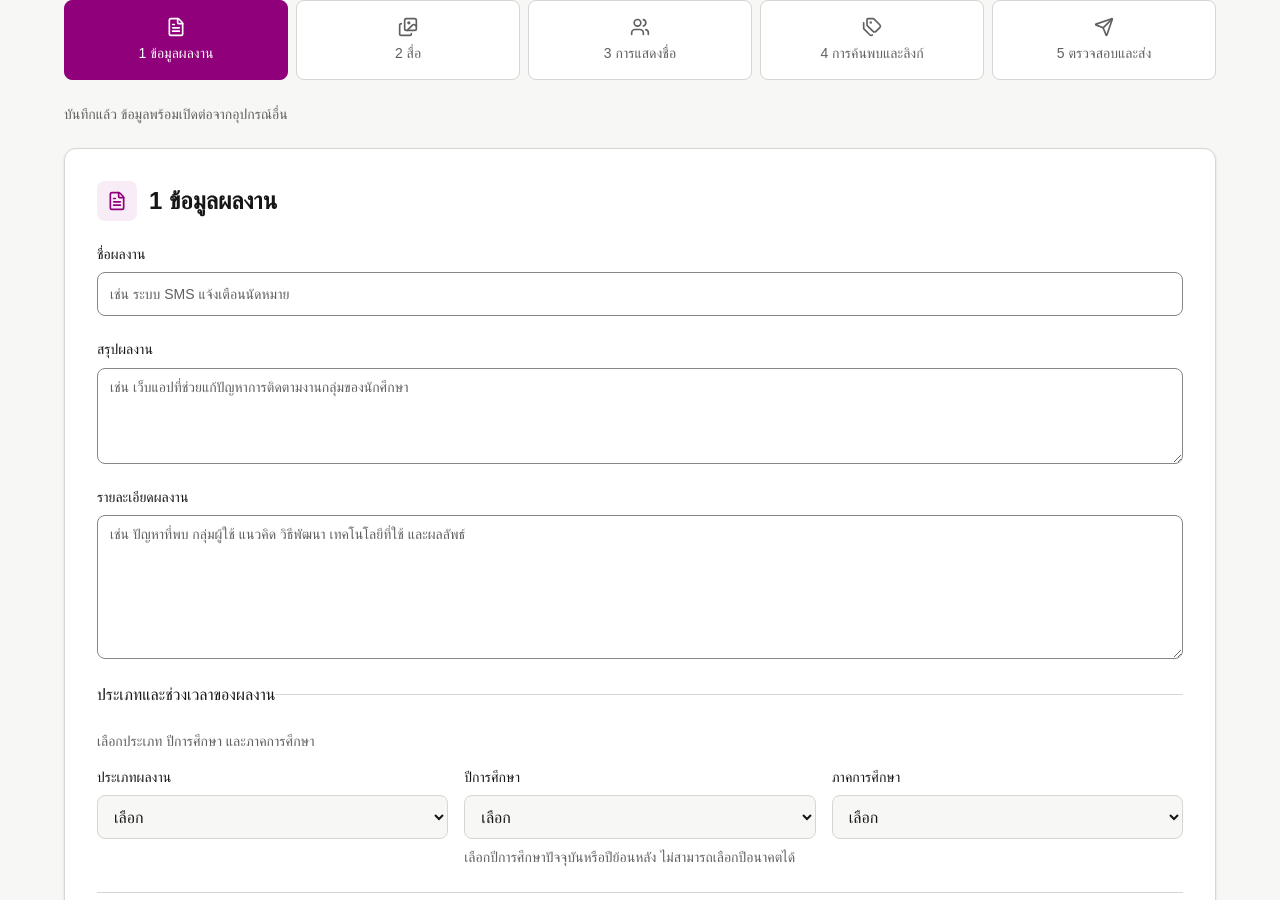
Test: five-step Work authoring › stays on the current step when saving on Next fails
Type "ผลงานใหม่" into the field labelled "ชื่อผลงาน". click: (640, 294)
box: [97,272,1183,316]
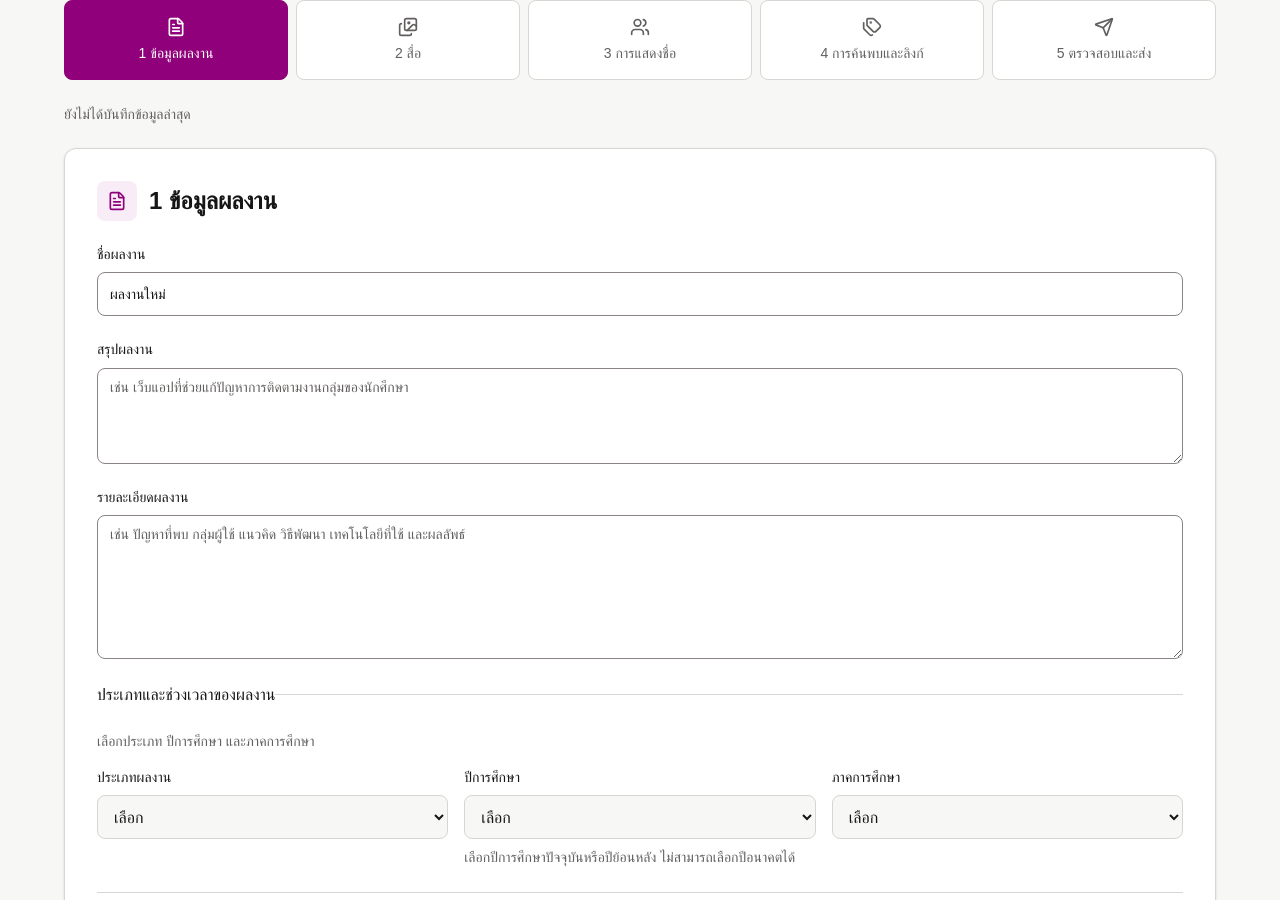
Type "สรุปผลงาน" into the text box labelled "สรุปผลงาน". click: (640, 416)
box: [97,368,1183,464]
Replace the text in the text box labelled "รายละเอียดผลงาน" with "รายละเอียดผลงาน". click: (640, 587)
box: [97,515,1183,659]
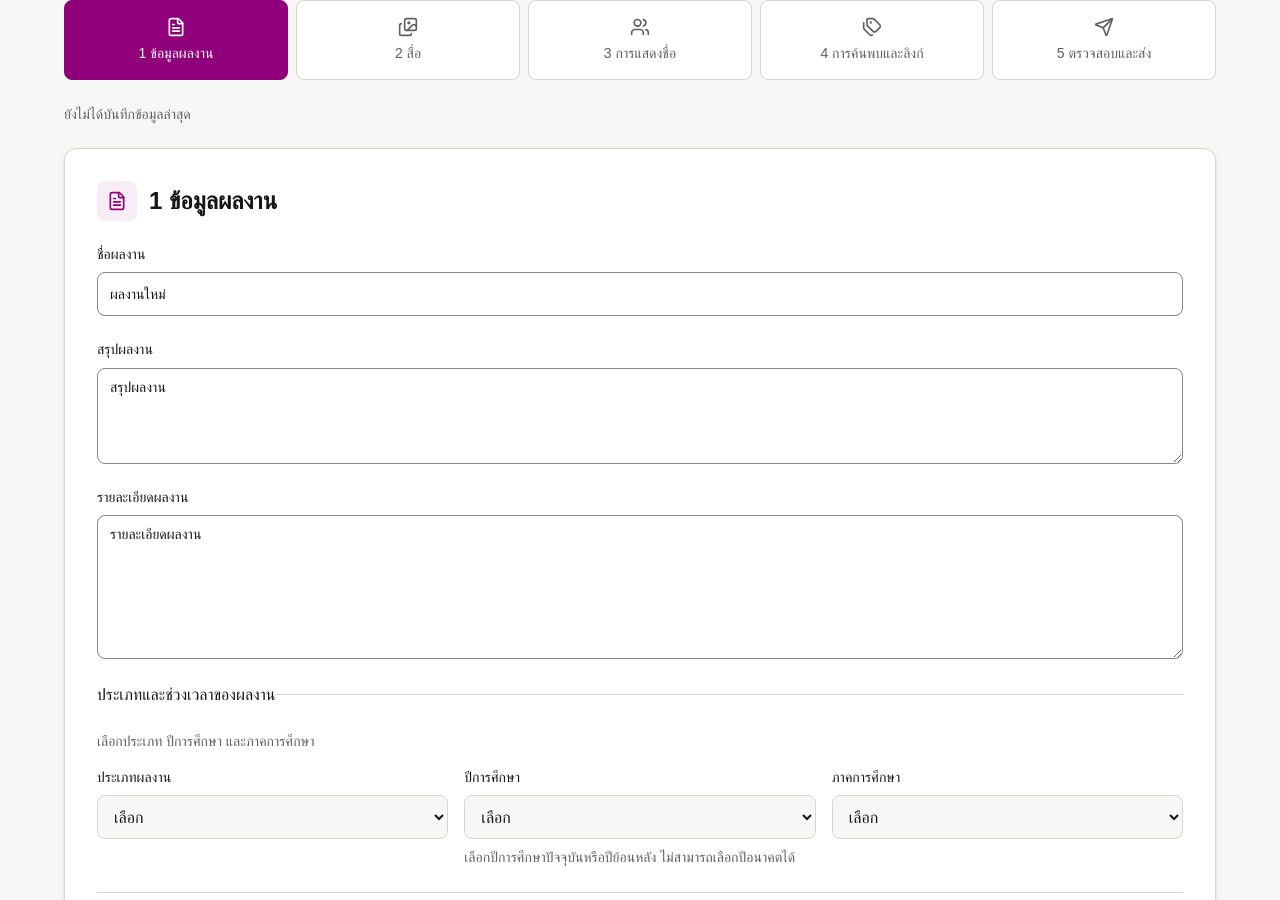
Select "ผลงานรายวิชา" in the dropdown labelled "ประเภทผลงาน". click: (273, 817)
box: [97,795,448,839]
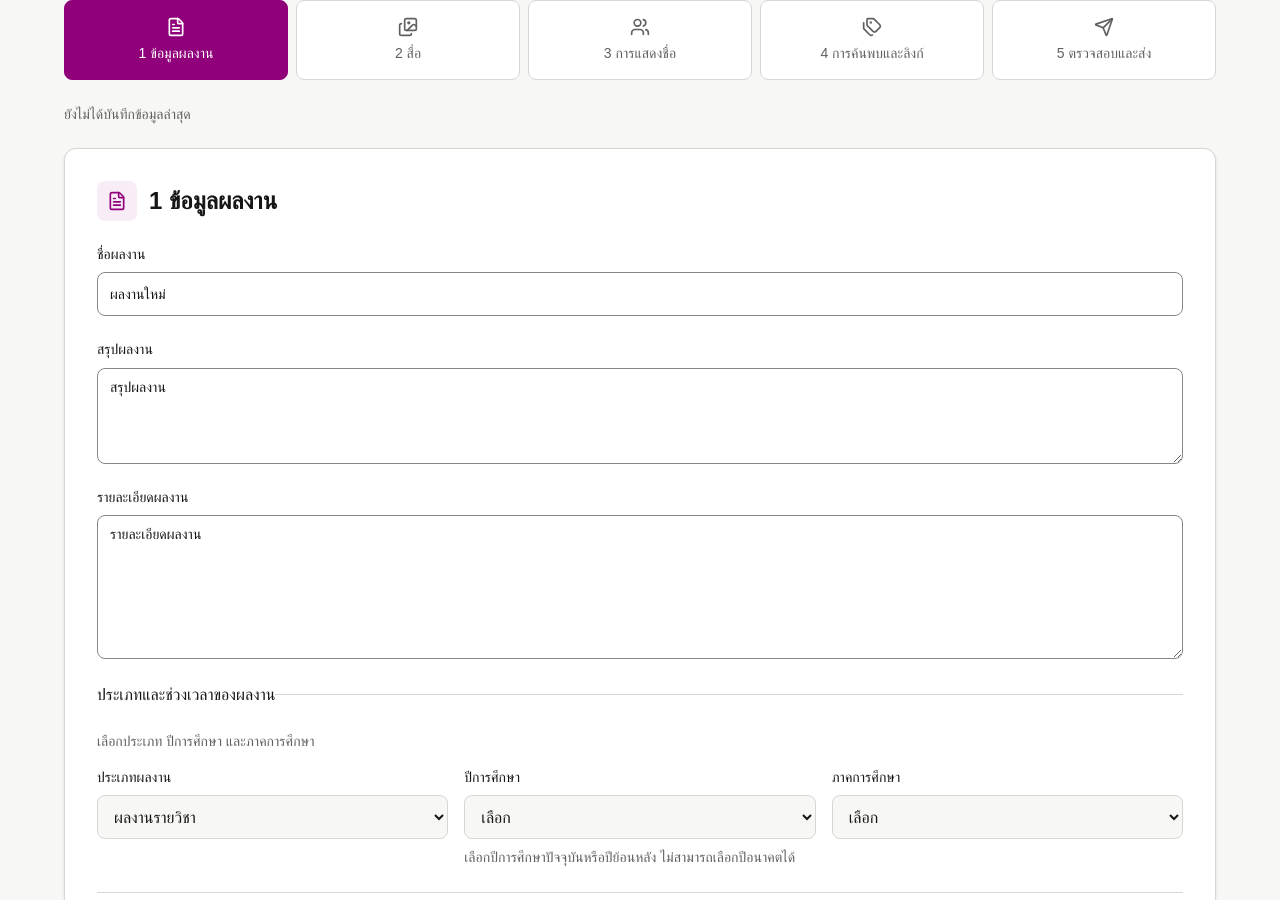
Select "2569" in the dropdown labelled "ปีการศึกษา". click: (640, 817)
box: [464,795,816,839]
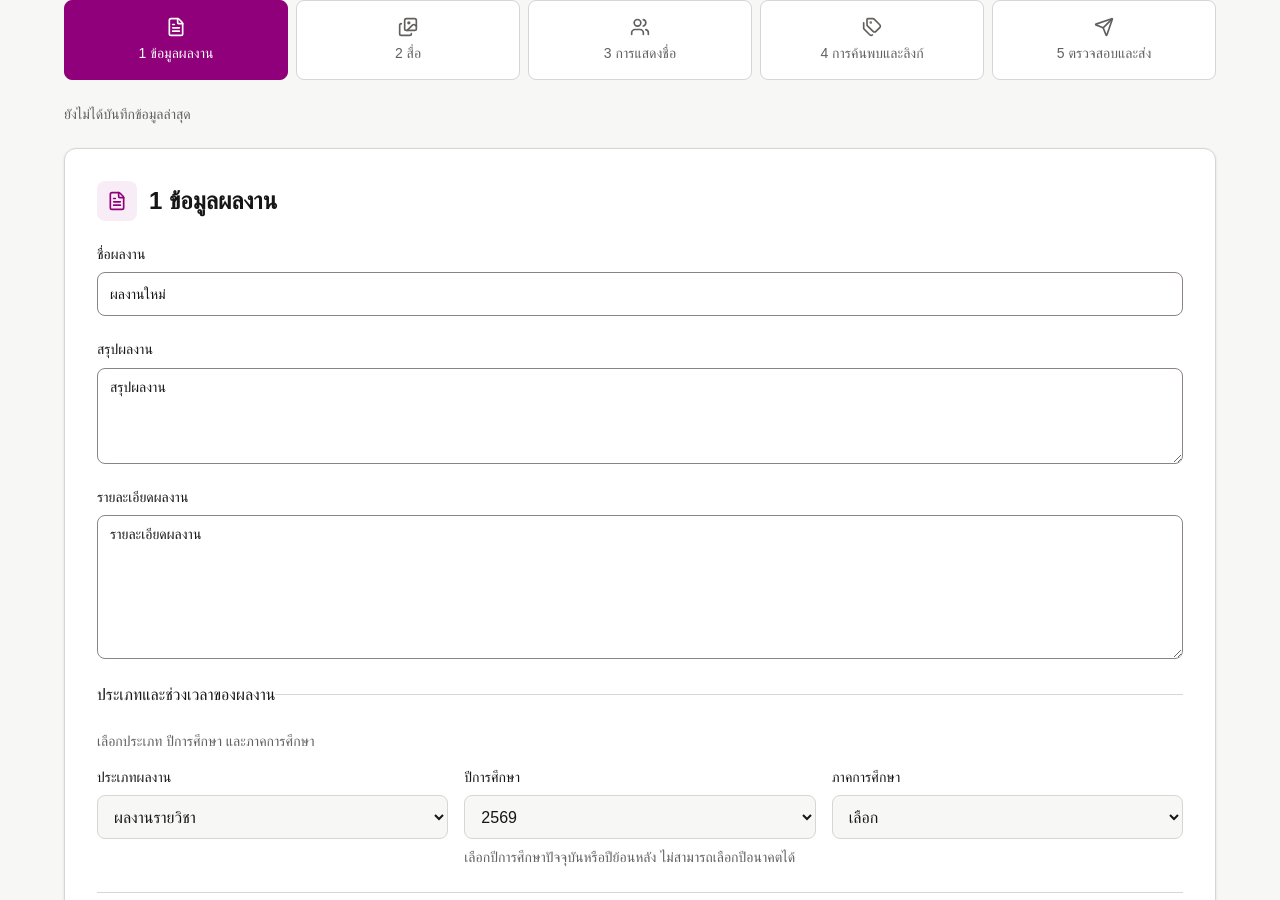
Select "1" in the dropdown labelled "ภาคการศึกษา". click: (1007, 817)
box: [832,795,1183,839]
(page scrolled)
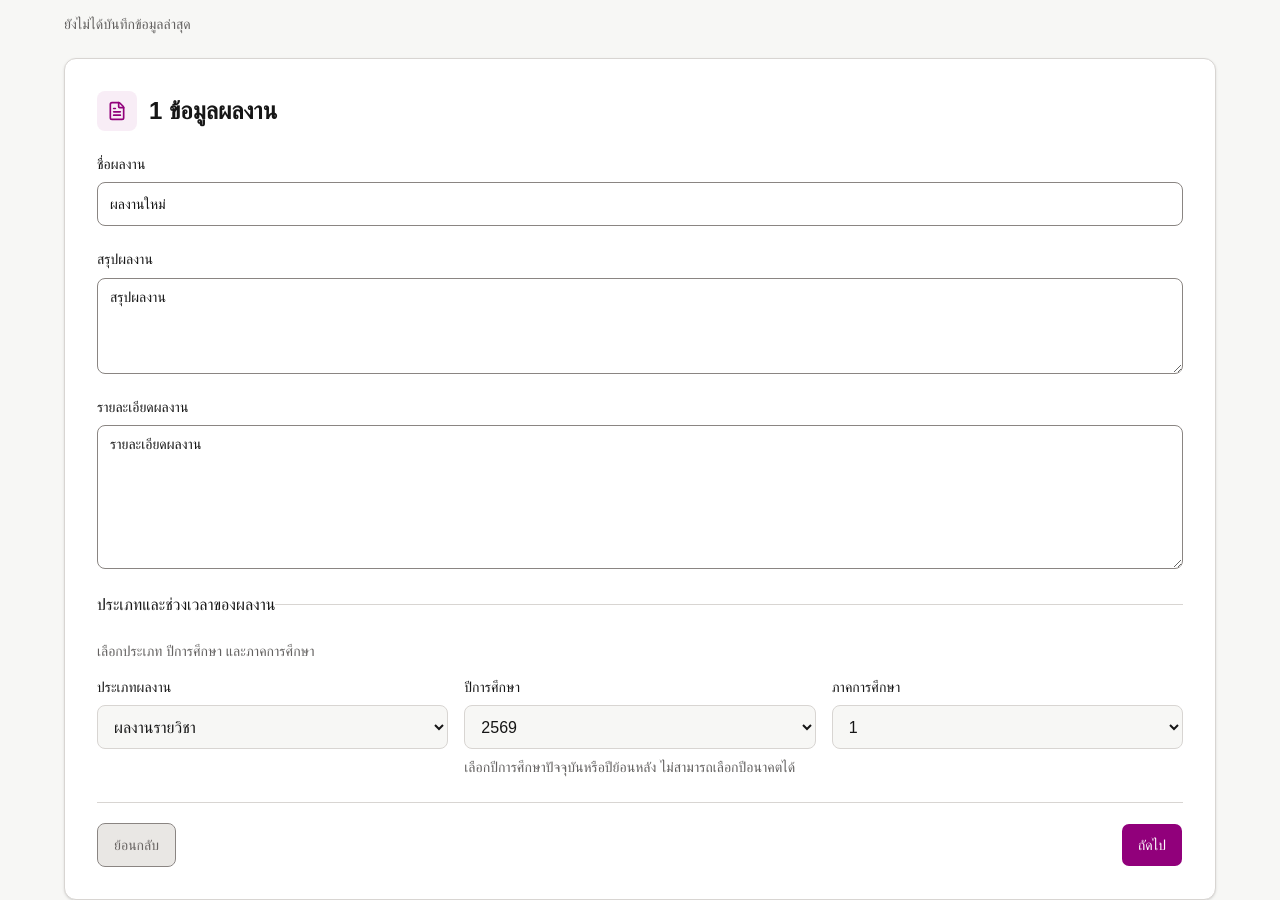
Click the button "ถัดไป". click: (1152, 845)
box: [1121,823,1183,867]
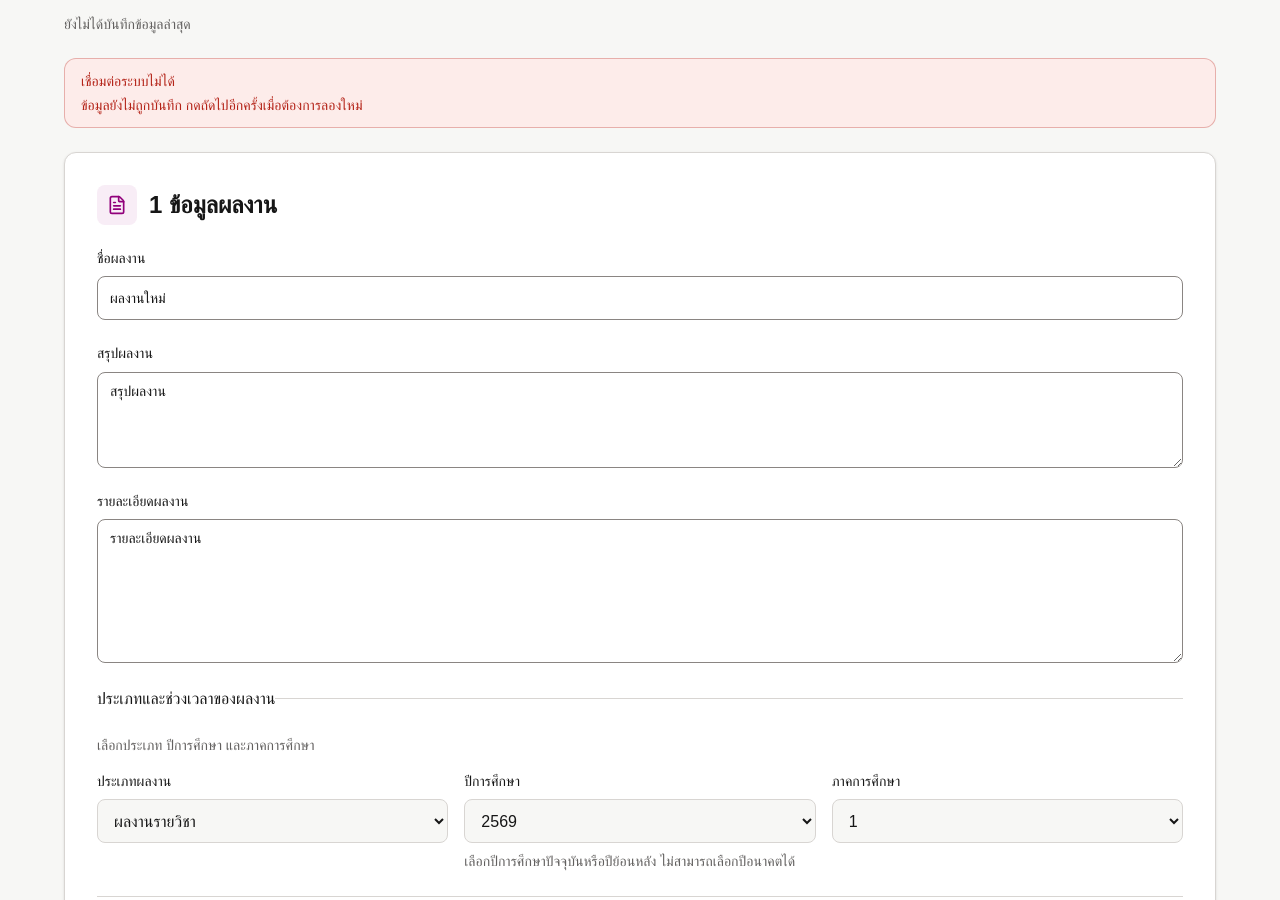
Expected: the text "เชื่อมต่อระบบไม่ได้" is shown, [81,73,175,89]
